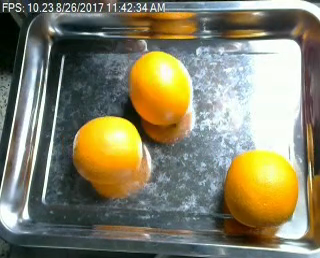Orange: (223, 149, 298, 228), (71, 114, 144, 183), (129, 50, 192, 125)
